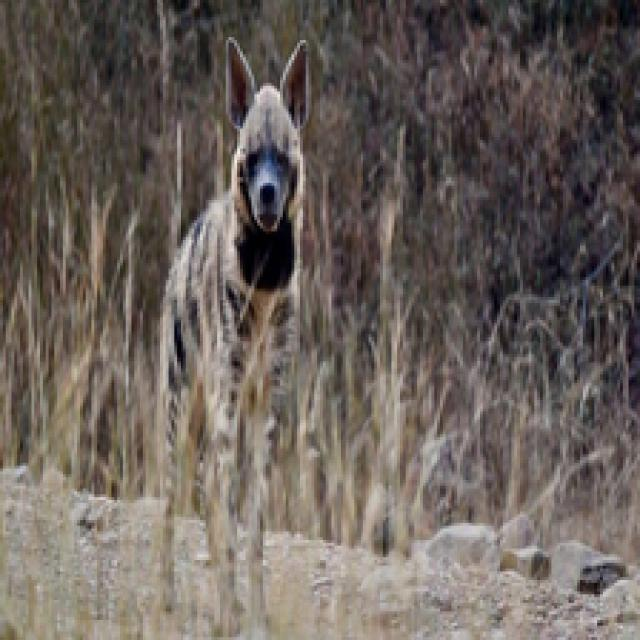hyena: (117, 42, 382, 630)
